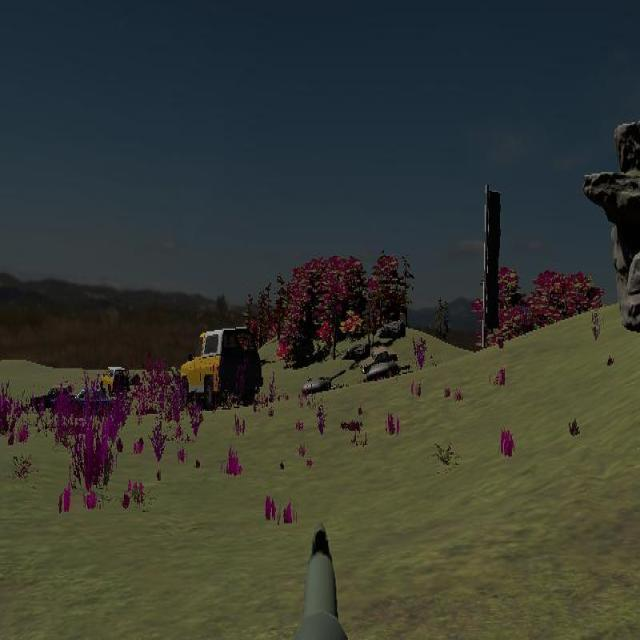car: (180, 326, 262, 407), (363, 346, 400, 382)
